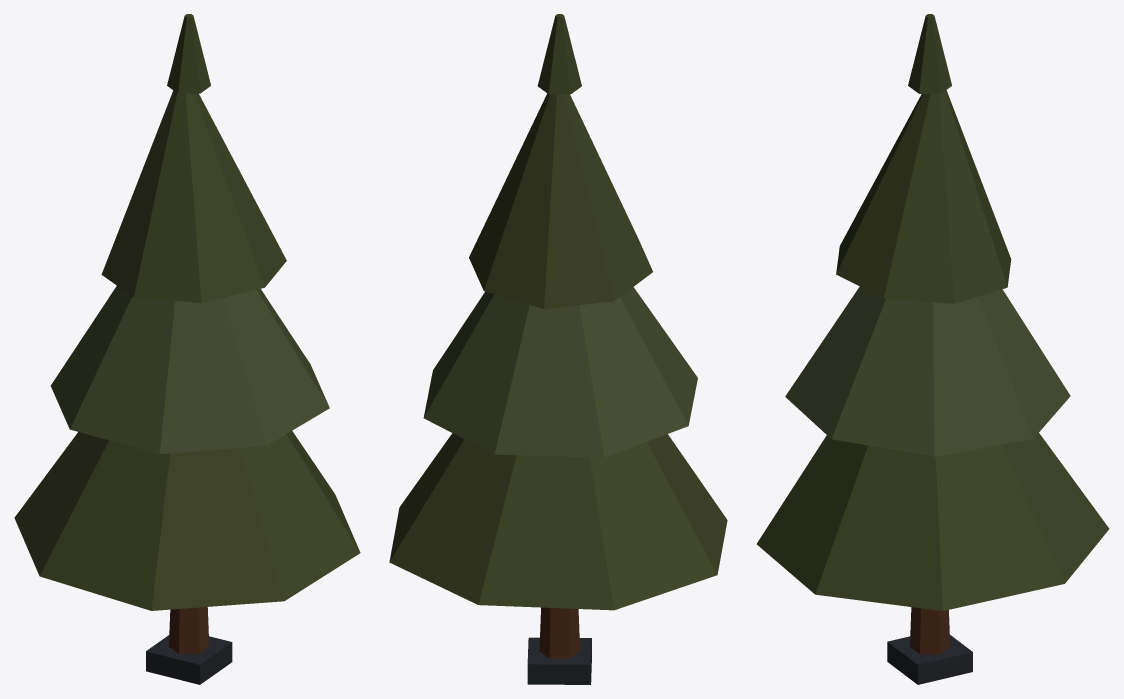
Rendered from env_pine_small.fbx.
The picture shows the model from 3 angles, left to right: view 1: azimuth 30°, elevation 25°; view 2: azimuth 150°, elevation 25°; view 3: azimuth 270°, elevation 25°; orthographic projection.
Visible parts, largest first — view 1: env_pine_small; view 2: env_pine_small; view 3: env_pine_small.
Boxes of the visible parts, x1,y1,x2,y2 form: env_pine_small: (14, 14, 360, 684); env_pine_small: (389, 14, 727, 684); env_pine_small: (756, 14, 1109, 684).
Size of the model in its own units: 639 by 1300 by 639.
